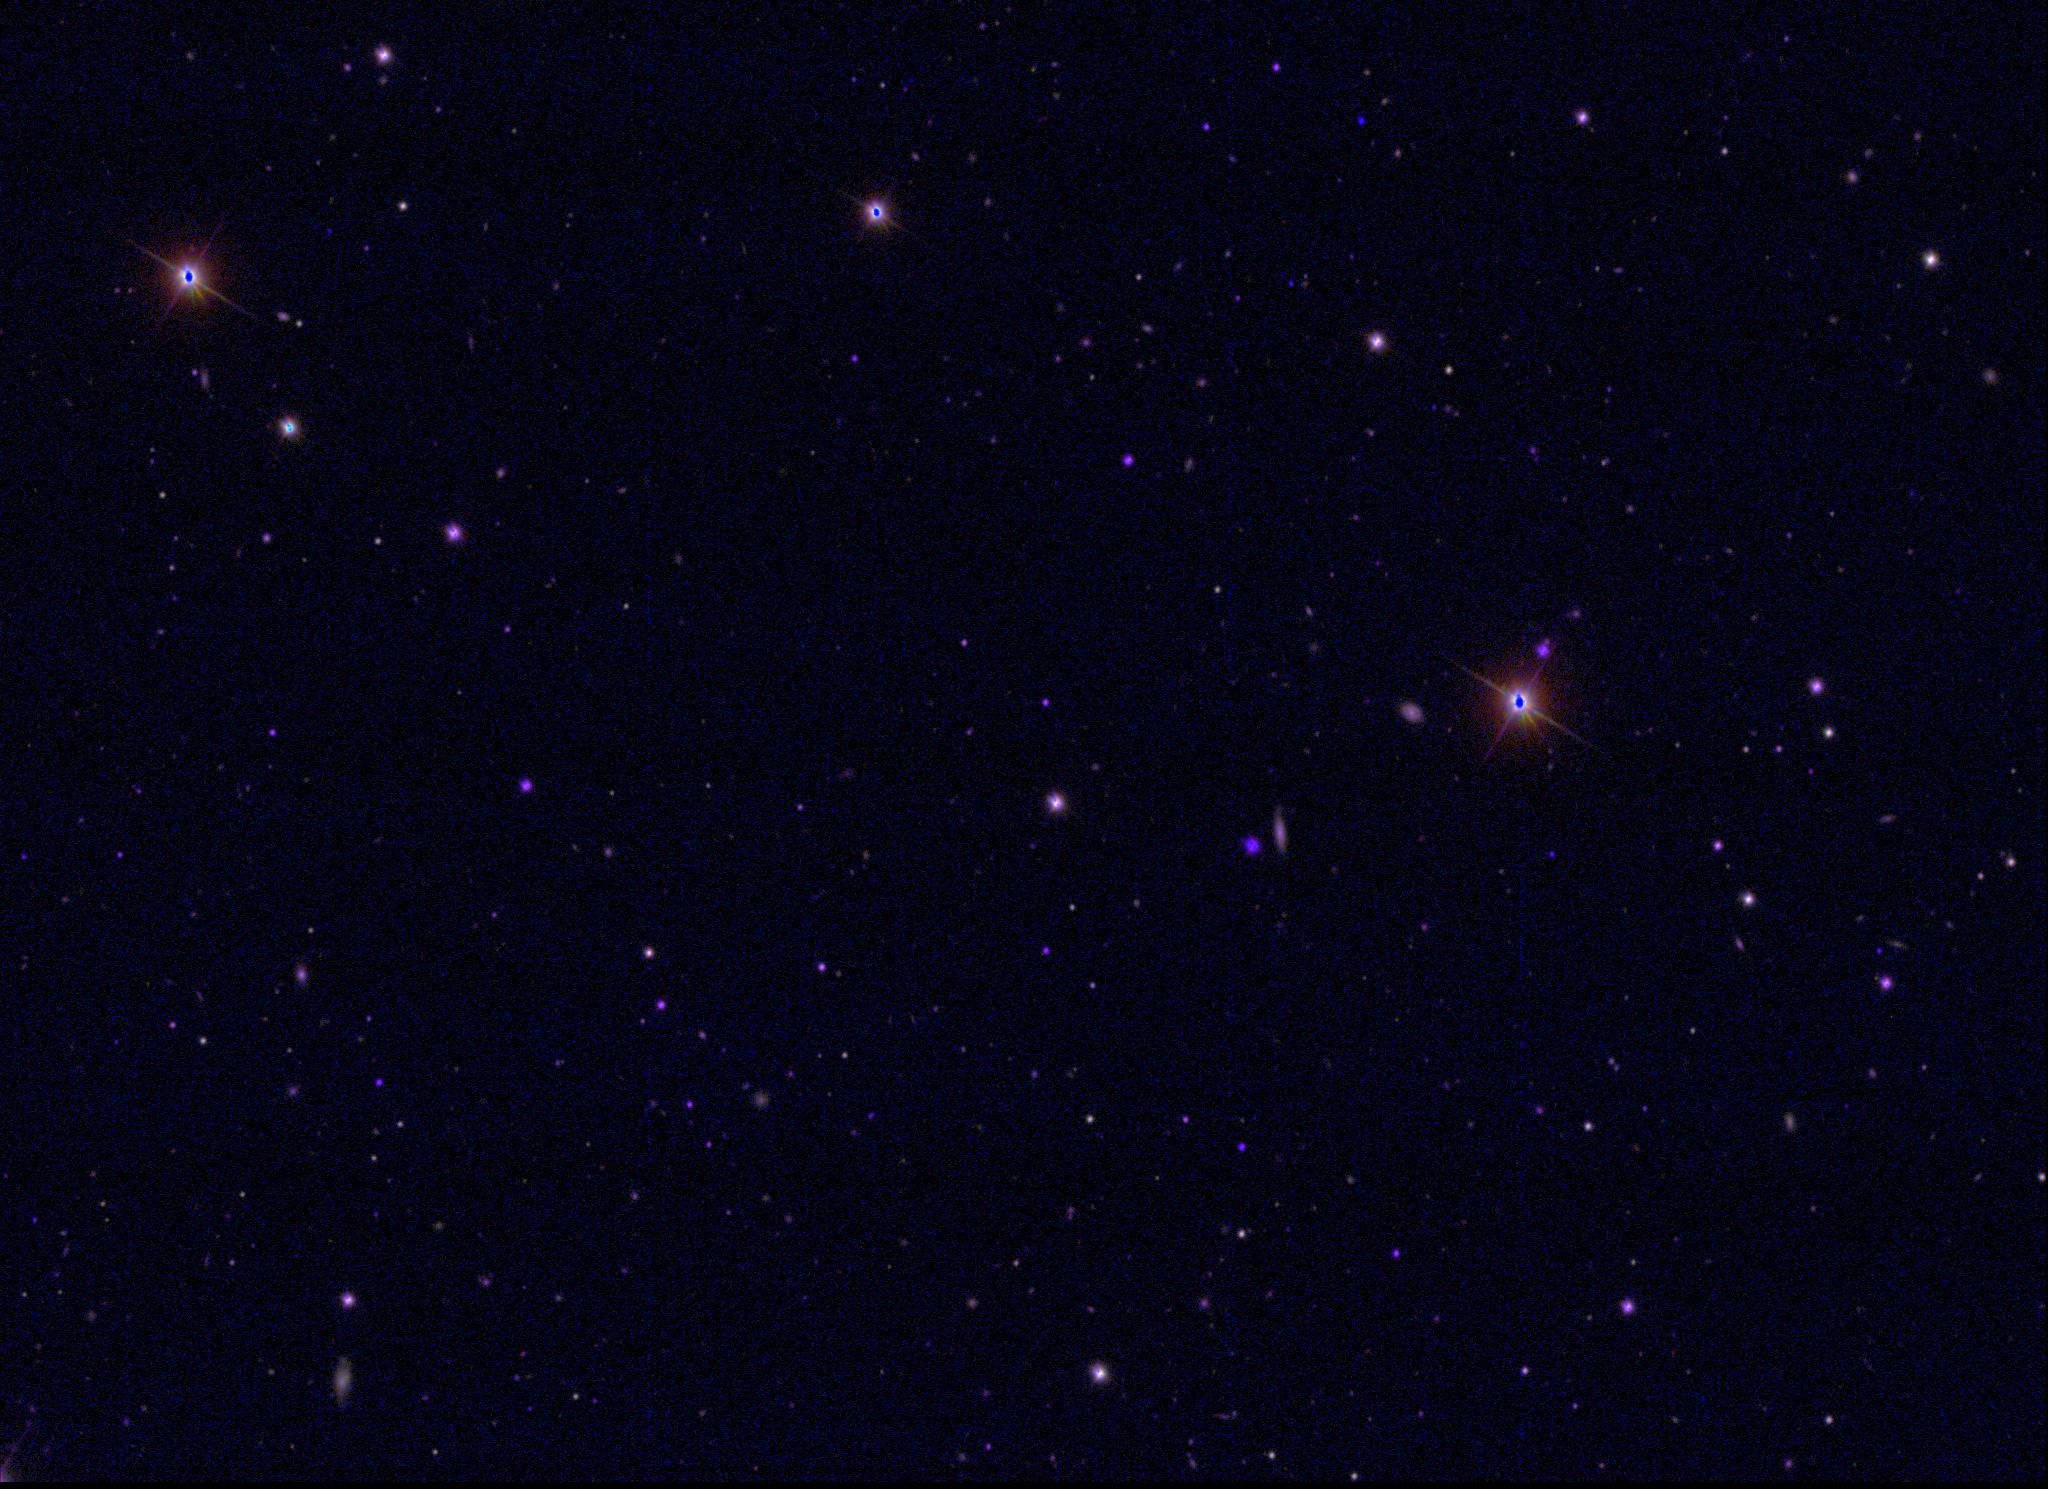L: (1355, 115, 1369, 127)
